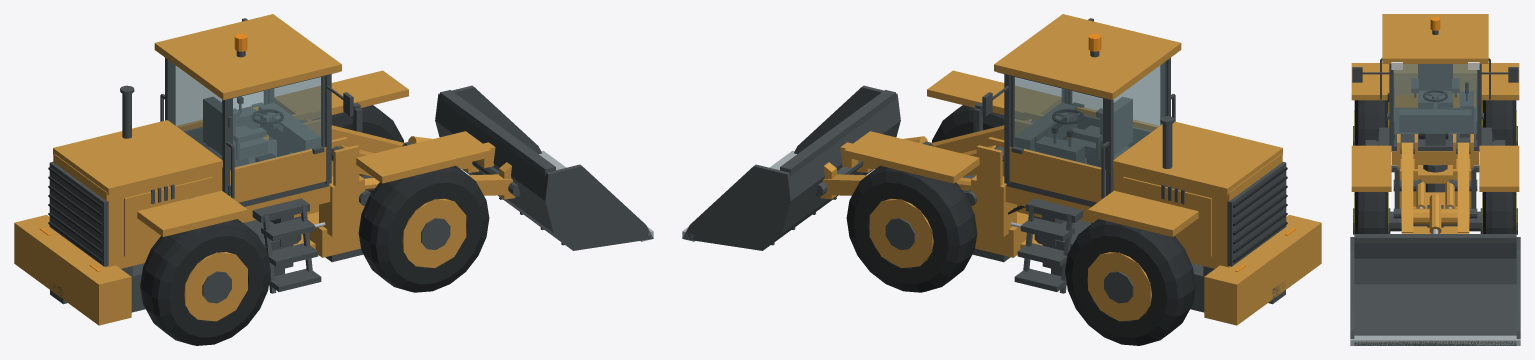
3 renders of one model, left to right at view 1: azimuth 30°, elevation 25°; view 2: azimuth 150°, elevation 25°; view 3: azimuth 270°, elevation 25°, orthographic. The views are drawn at different scales.
Visible parts, largest first — view 1: Front_R, Rear_R, Cab_roof, Engine_top, Counterweight, Door_glass, Bucket_cheek_-1.43175, Fender_1.4_-1.1, Bucket_shell, Door_lower, Rear_window, Fender_1.4_1.1 (+31 smaller); view 2: Front_L, Rear_L, Cab_roof, Engine_top, Counterweight, Fixed_cab_side_glass, Bucket_cheek_1.43175, Fender_1.4_1.1, Bucket_shell, Fixed_cab_side_lower, Rear_window, Fender_1.4_-1.1 (+31 smaller); view 3: Bucket_shell, Front_windshield, Cab_roof, Fender_1.4_-1.1, Fender_1.4_1.1, Dashboard, Cutting_edge, Bucket_top_edge, Front_R, Front_L, Rear_L, Rear_R (+34 smaller).
Boxes of the visible parts, bbox=[...] form: Front_R: bbox=[358, 165, 489, 292]; Rear_R: bbox=[140, 219, 270, 345]; Cab_roof: bbox=[154, 14, 341, 99]; Engine_top: bbox=[53, 120, 222, 195]; Counterweight: bbox=[14, 215, 131, 325]; Door_glass: bbox=[233, 77, 321, 167]; Bucket_cheek_-1.43175: bbox=[543, 164, 653, 250]; Fender_1.4_-1.1: bbox=[356, 131, 491, 183]; Bucket_shell: bbox=[437, 99, 568, 247]; Door_lower: bbox=[230, 147, 326, 202]; Rear_window: bbox=[169, 61, 221, 158]; Fender_1.4_1.1: bbox=[274, 70, 408, 119]; Front_L: bbox=[846, 165, 977, 292]; Rear_L: bbox=[1065, 219, 1195, 345]; Cab_roof: bbox=[994, 14, 1181, 99]; Engine_top: bbox=[1113, 121, 1282, 195]; Counterweight: bbox=[1204, 215, 1321, 325]; Fixed_cab_side_glass: bbox=[1014, 77, 1102, 167]; Bucket_cheek_1.43175: bbox=[682, 164, 792, 250]; Fender_1.4_1.1: bbox=[844, 131, 979, 183]; Bucket_shell: bbox=[767, 99, 898, 247]; Fixed_cab_side_lower: bbox=[1009, 147, 1105, 202]; Rear_window: bbox=[1114, 61, 1166, 158]; Fender_1.4_-1.1: bbox=[927, 70, 1061, 119]; Bucket_shell: bbox=[1354, 243, 1516, 345]; Front_windshield: bbox=[1394, 64, 1476, 133]; Cab_roof: bbox=[1382, 14, 1488, 63]; Fender_1.4_-1.1: bbox=[1351, 145, 1391, 191]; Fender_1.4_1.1: bbox=[1479, 145, 1519, 191]; Dashboard: bbox=[1399, 109, 1471, 132]; Cutting_edge: bbox=[1350, 335, 1520, 345]; Bucket_top_edge: bbox=[1354, 234, 1516, 243]; Front_R: bbox=[1354, 192, 1388, 233]; Front_L: bbox=[1482, 192, 1516, 233]; Rear_L: bbox=[1482, 100, 1516, 145]; Rear_R: bbox=[1354, 100, 1388, 145].
Bounding box in the file's own units: 8.31 × 3.74 × 2.93.
